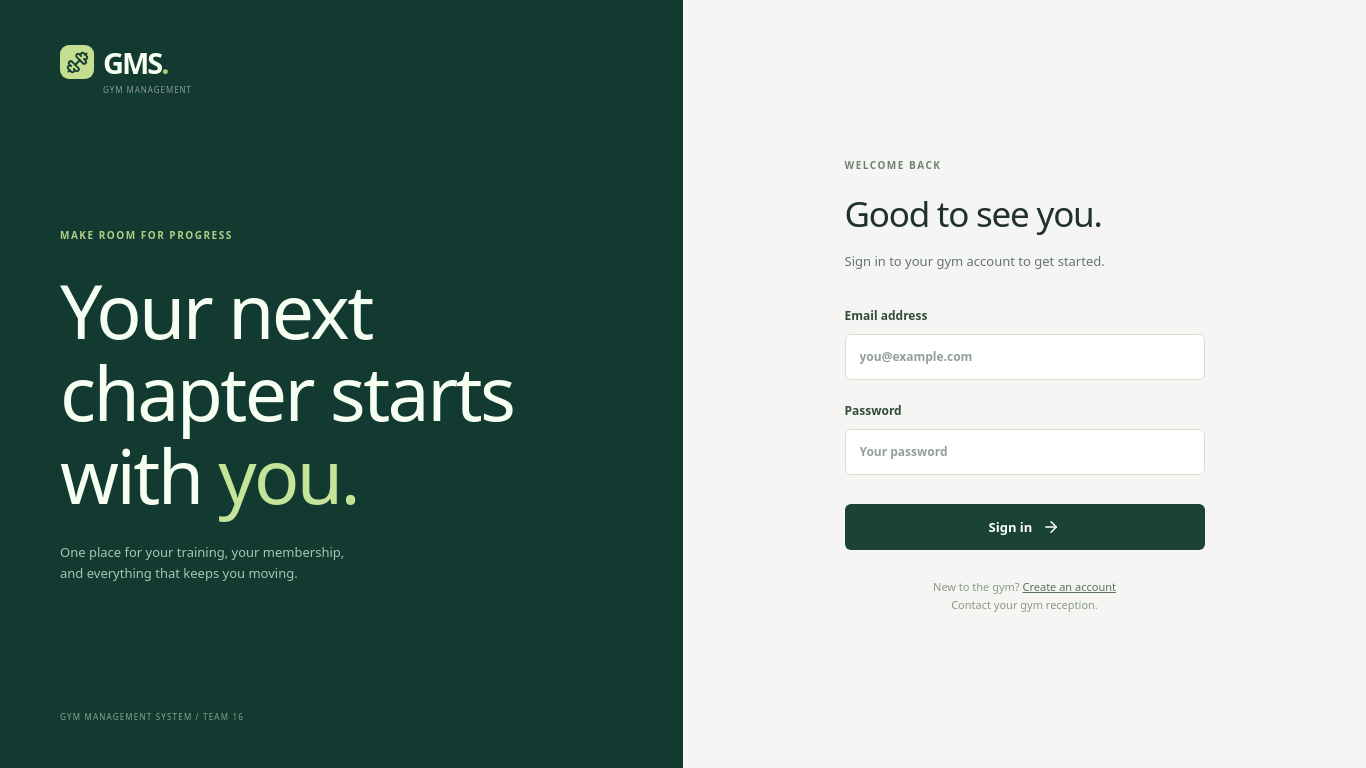
responsive application shell › shows failed login messages as a standardized accessible toast
Step 1. Type "member@gym.test" into the field labelled "Email address" → (1024, 357), box [844,334,1204,380]
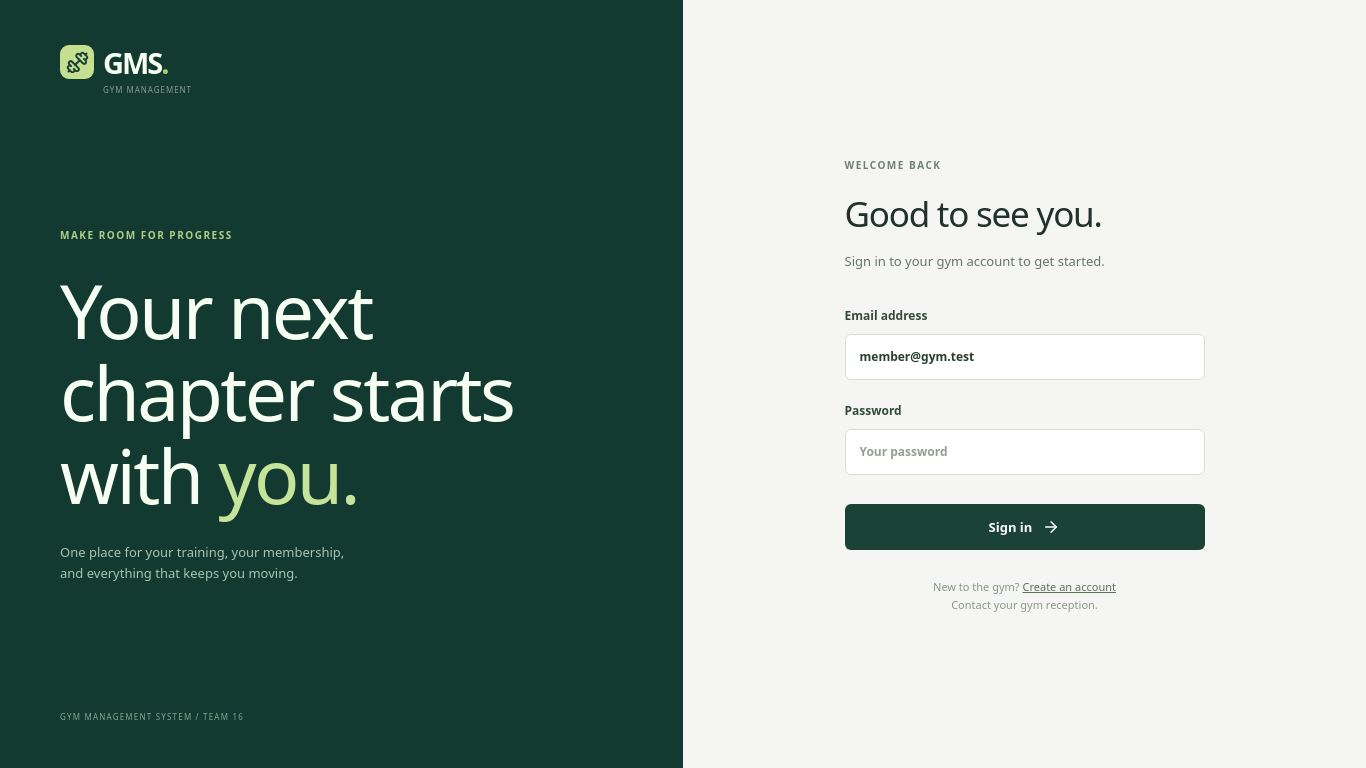
Step 2. Type "wrong" into the password field labelled "Password" → (1024, 452), box [844,429,1204,475]
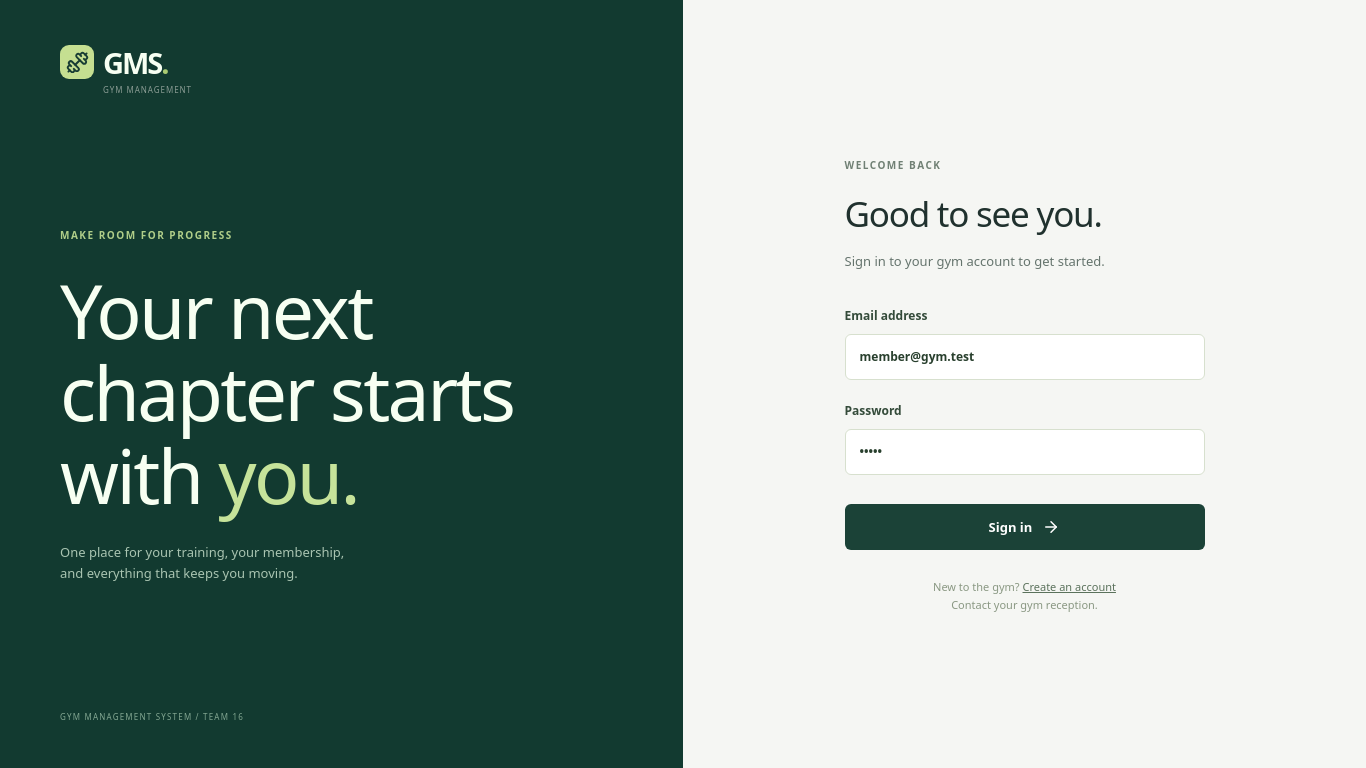
Step 3. Click the button "Sign in" → (1024, 527), box [844,504,1204,550]
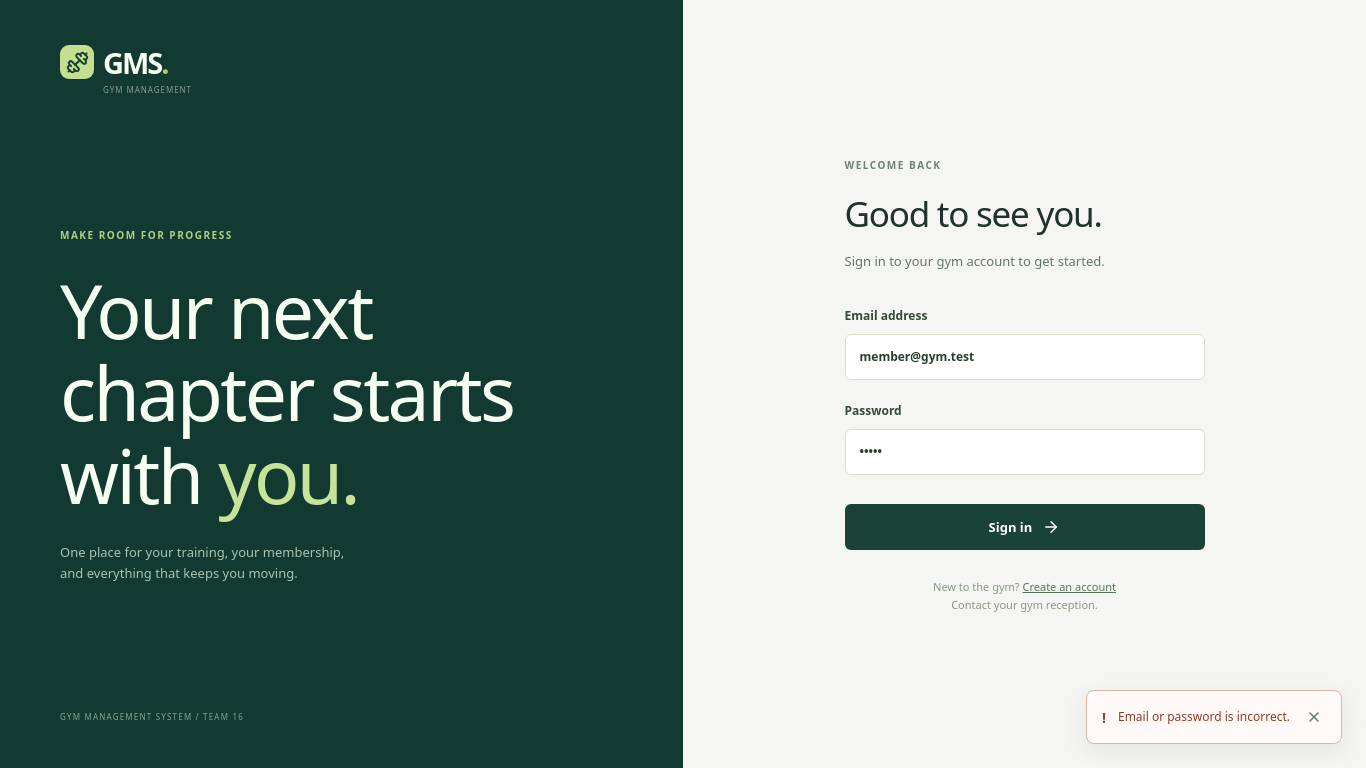
Expected: the message shows "Email or password is incorrect.", [1118,708,1290,725]
